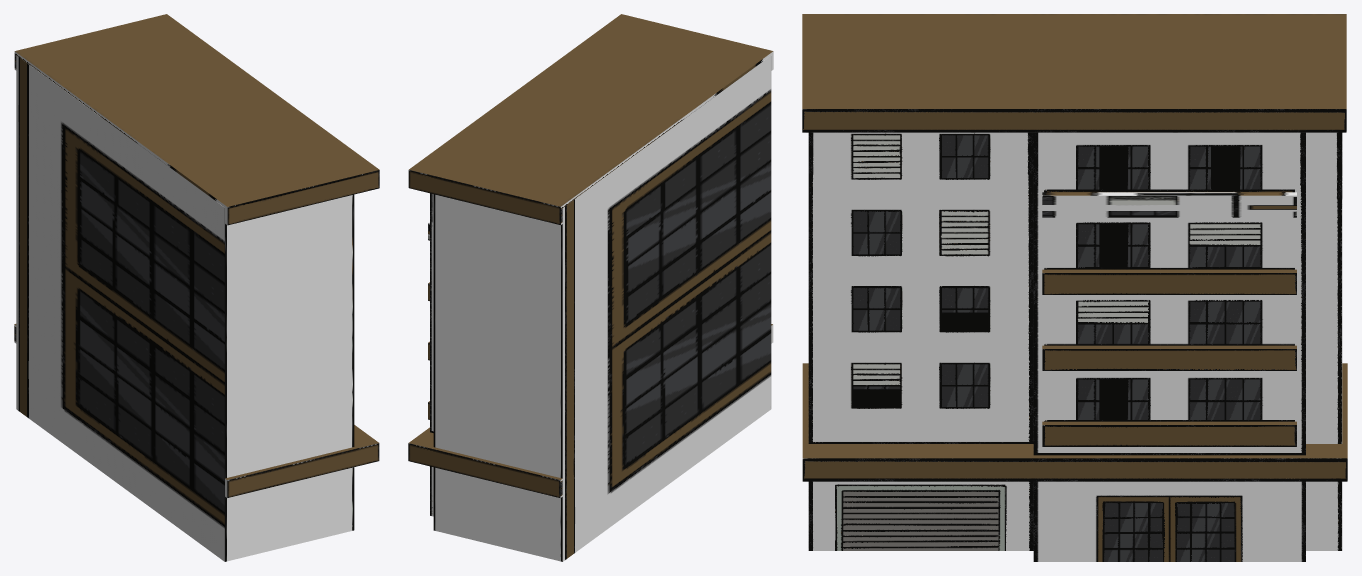
The model's file is predio_2.glb.
3 views of the same model, side by side, from view 1: azimuth 30°, elevation 25°; view 2: azimuth 150°, elevation 25°; view 3: azimuth 270°, elevation 25° (orthographic). The views are drawn at different scales.
Visible parts, largest first — view 1: Cube.002; view 2: Cube.002; view 3: Cube.002.
Part boxes in pixels (left/top/right/bottom): Cube.002: left=14, top=14, right=379, bottom=561; Cube.002: left=408, top=14, right=773, bottom=561; Cube.002: left=802, top=14, right=1347, bottom=561.
Size of the model in its own units: 2.07 by 4.63 by 5.02.
Materials: 1 (1 with a texture image).
